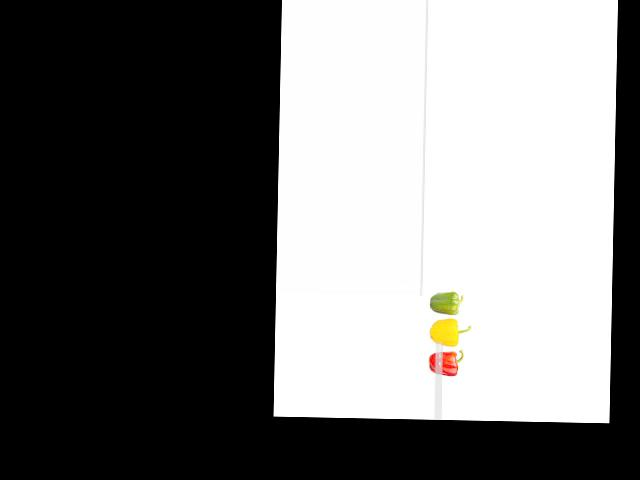bell_pepper: (427, 288, 468, 314)
